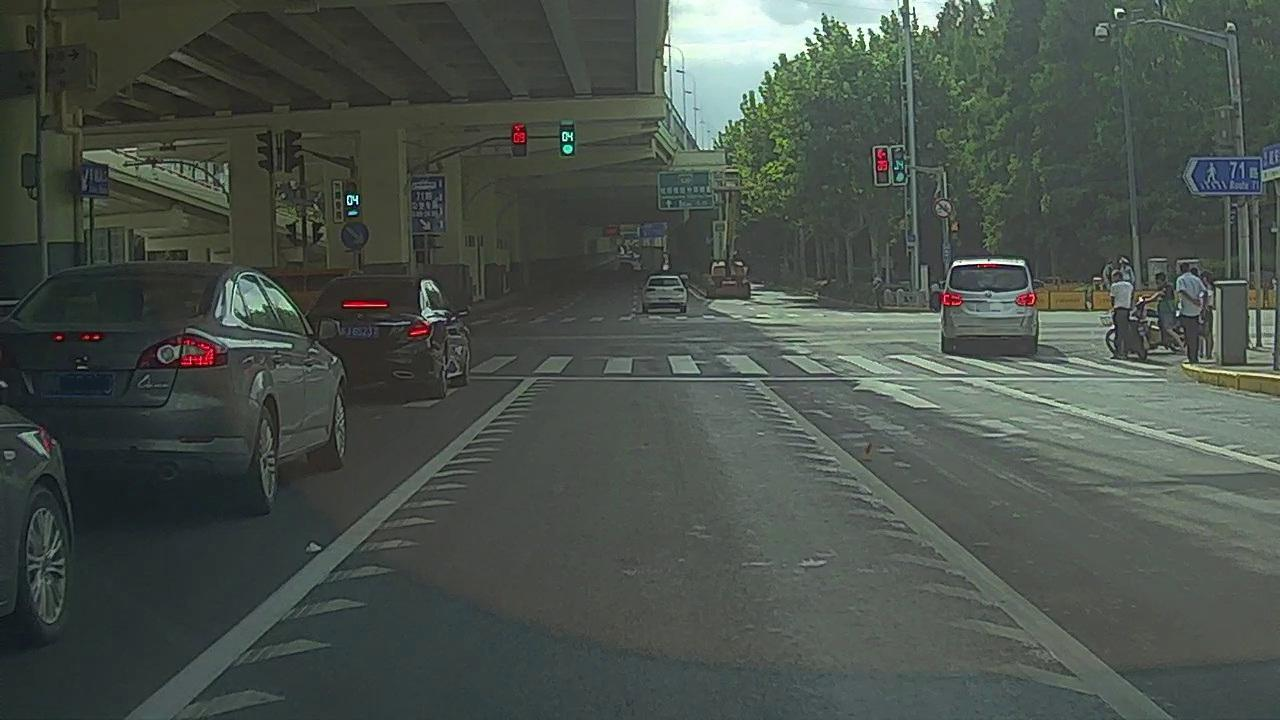traffic_light: (559, 123, 575, 157), (513, 120, 527, 157)
